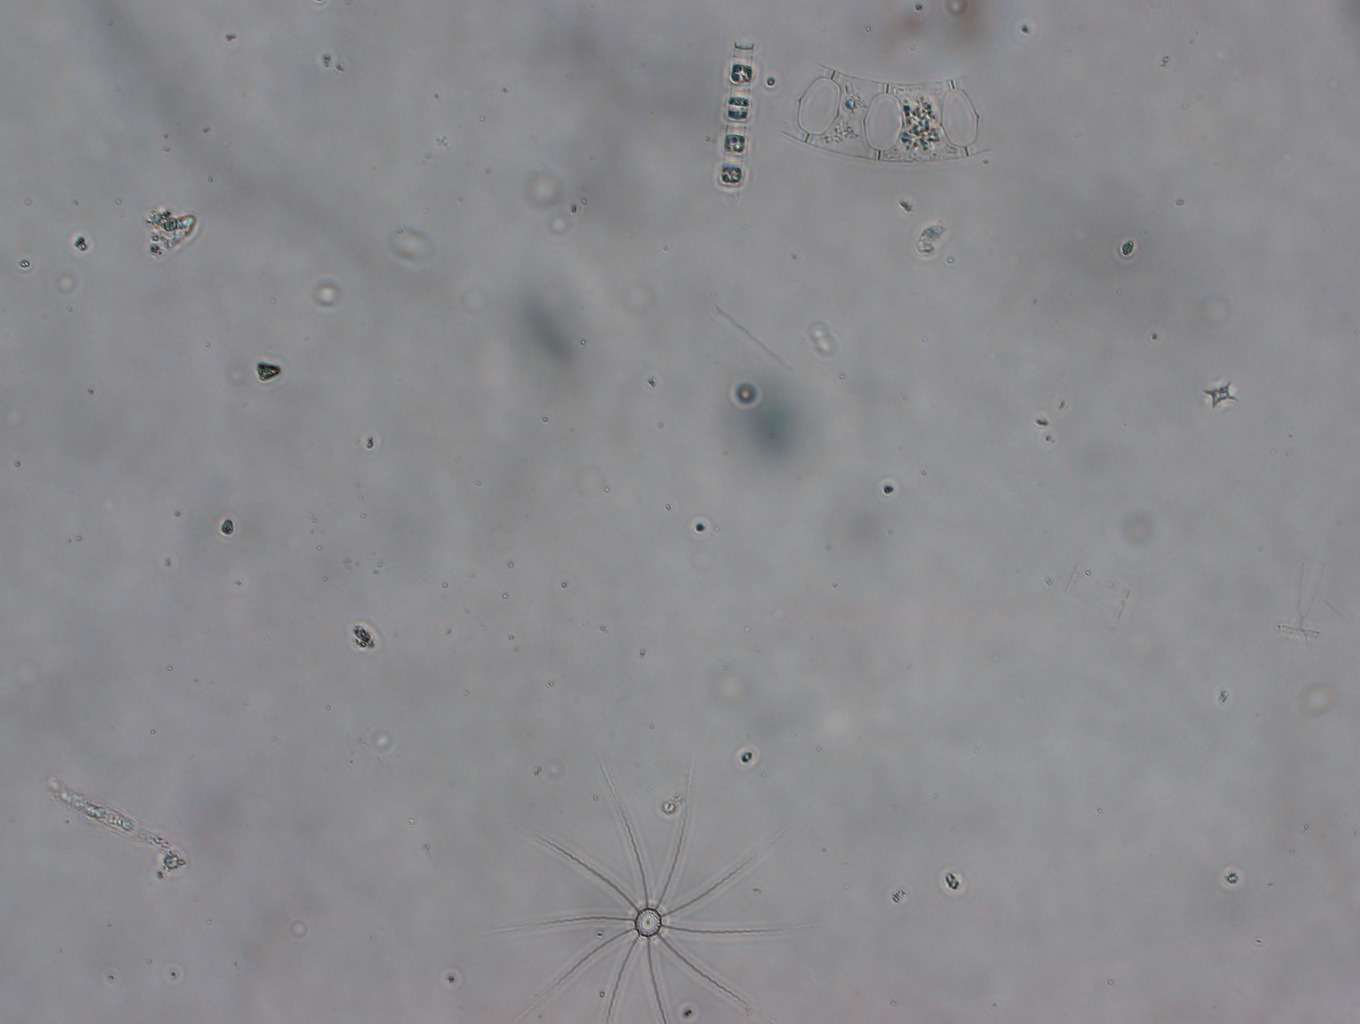bacteriastrum: (489, 746, 808, 1024)
eucampia: (781, 60, 994, 163)
skeletonema: (717, 37, 755, 194)
